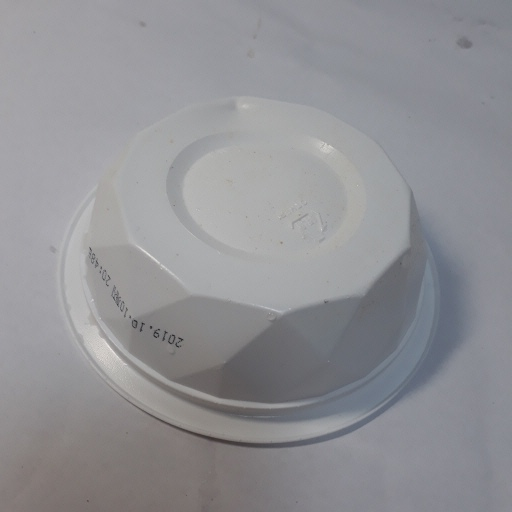Plastic_5: (60, 95, 441, 445)
